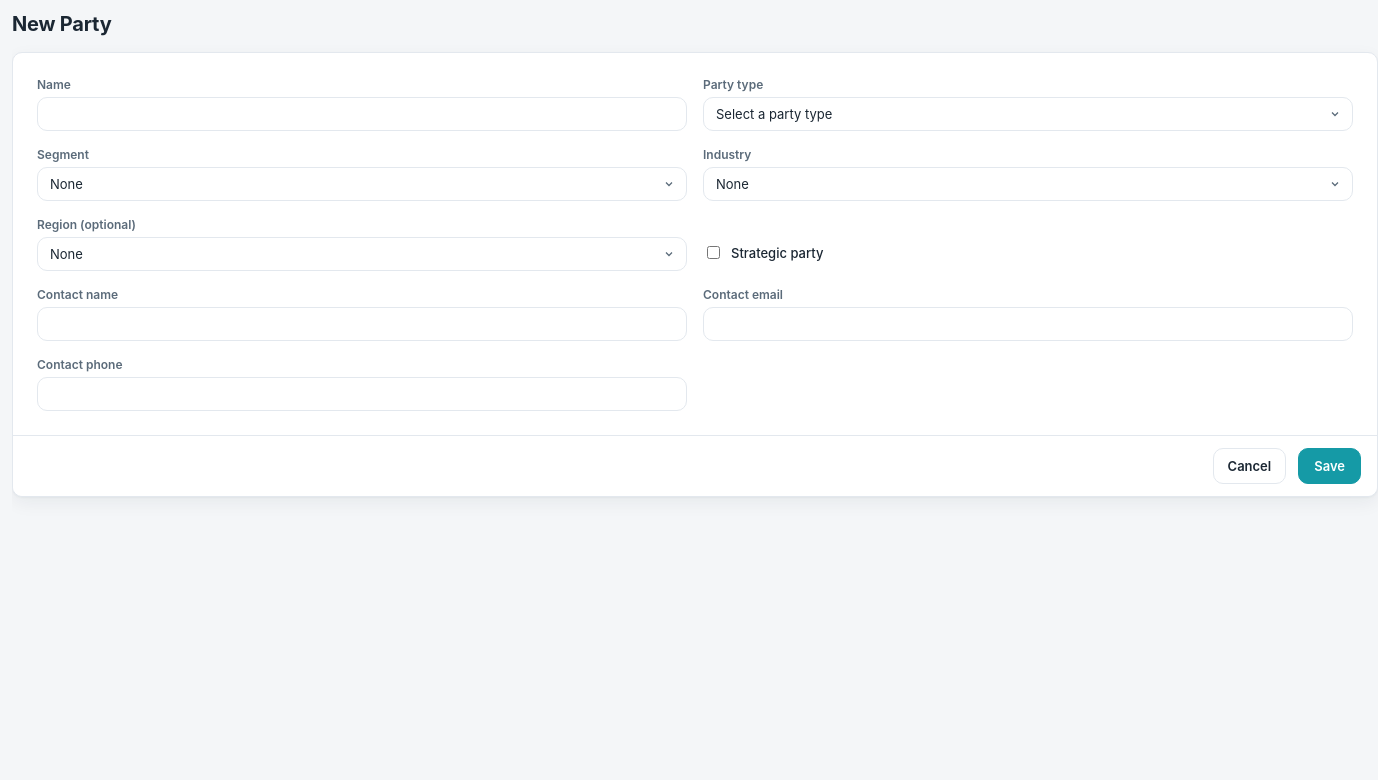
Scenario: PartyFormPage › submit_WhenPartyTypeNotSelected_ShouldShowInlineRequiredError
Expected: the dropdown labelled "Party type" is shown, x1=703 y1=97 x2=1353 y2=131
Type "Acme" into the field labelled "Name" at (362, 114), box x1=37 y1=97 x2=687 y2=131
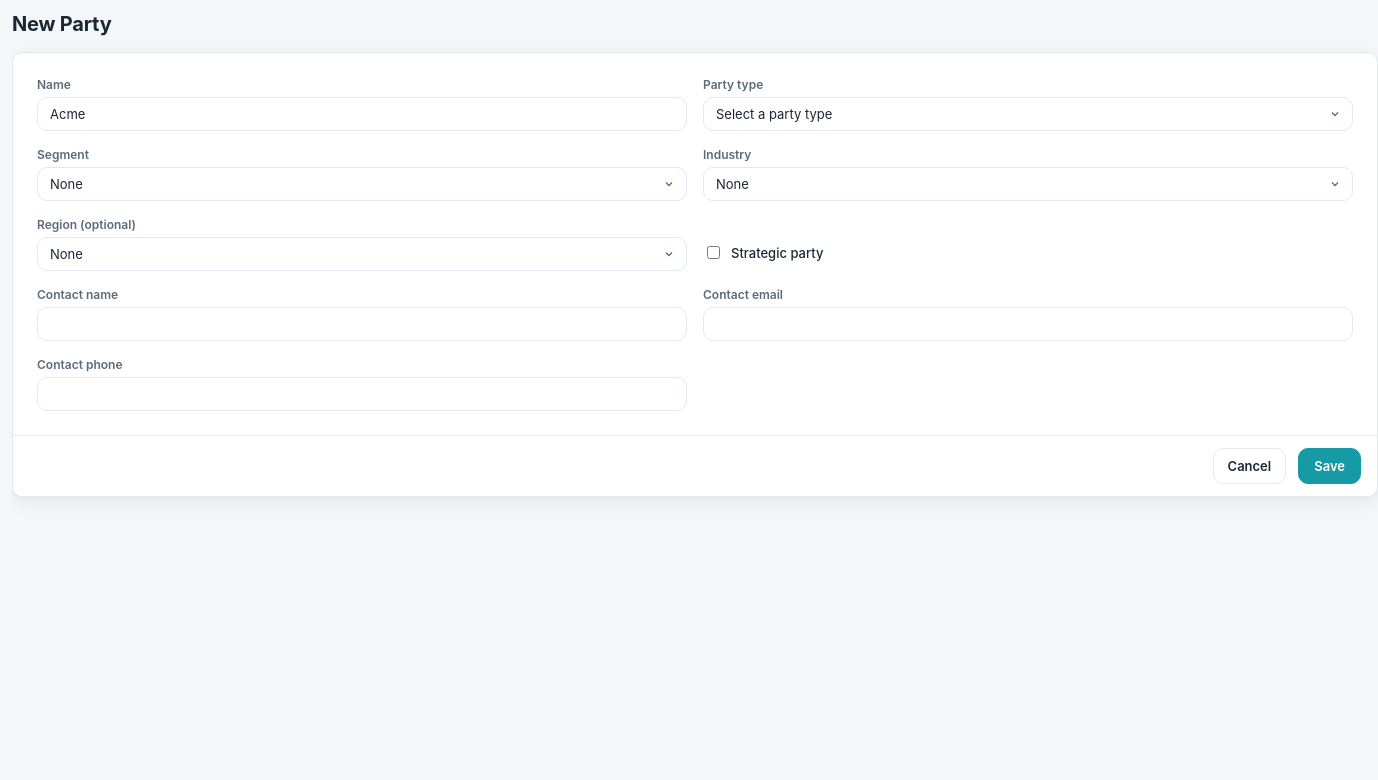
Click the button "Save" at (1330, 466), box x1=1298 y1=448 x2=1361 y2=484
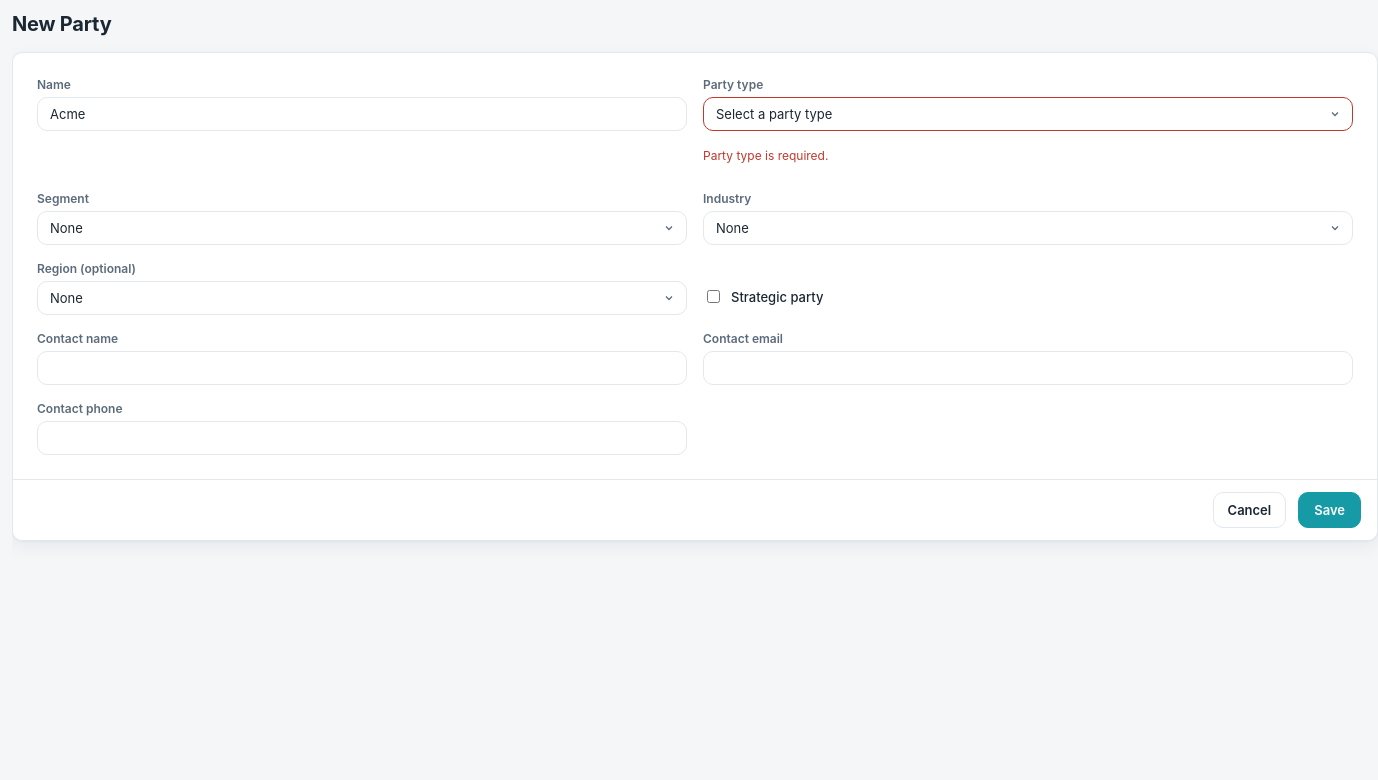
Expected: the text "Party type is required." is shown, x1=703 y1=148 x2=828 y2=163
